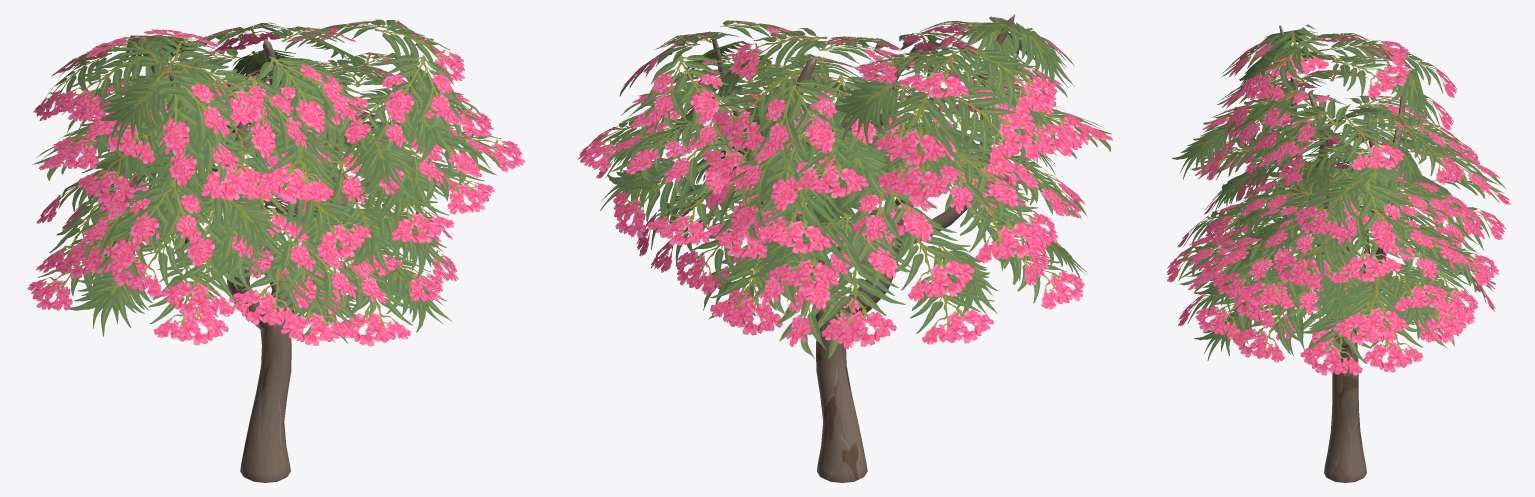
File: LaureldeJudeaESPOL.fbx
3 renders of one model, left to right at view 1: azimuth 30°, elevation 25°; view 2: azimuth 150°, elevation 25°; view 3: azimuth 270°, elevation 25°, orthographic. The views are drawn at different scales.
Visible parts, largest first — view 1: Tronco, Rama1_12, Rama1_34, Rama1_8, Rama1_32, Rama1_11, Rama2_7, Rama1_35, Rama2_8, Rama2_10, Rama3_13, Rama3_10 (+64 smaller); view 2: Tronco, Rama1_39, Rama1_24, Rama2_49, Rama2_22, Rama2_30, Rama2_21, Rama1_27, Rama1_20, Rama1_19, Rama2_52, Rama2_48 (+55 smaller); view 3: Tronco, Rama1_41, Rama2_38, Rama2_18, Rama2_47, Rama2_40, Rama2_33, Rama1_11, Rama1_32, Rama2_36, Rama2_63, Rama1_15 (+71 smaller).
Boxes of the visible parts, box(x1,y1,x2,y2) form: Tronco: box(143, 38, 416, 482); Rama1_12: box(369, 55, 463, 131); Rama1_34: box(149, 72, 237, 158); Rama1_8: box(115, 178, 211, 253); Rama1_32: box(255, 56, 349, 132); Rama1_11: box(226, 74, 312, 166); Rama2_7: box(229, 246, 311, 328); Rama1_35: box(77, 191, 161, 277); Rama2_8: box(285, 186, 371, 258); Rama2_10: box(248, 132, 333, 201); Rama3_13: box(93, 74, 170, 150); Rama3_10: box(339, 131, 421, 197); Tronco: box(712, 14, 1015, 482); Rama1_39: box(755, 79, 850, 165); Rama1_24: box(640, 54, 734, 131); Rama2_49: box(875, 84, 964, 165); Rama2_22: box(821, 263, 905, 346); Rama2_30: box(945, 85, 1035, 165); Rama2_21: box(890, 220, 975, 301); Rama1_27: box(729, 132, 830, 213); Rama1_20: box(935, 146, 1031, 220); Rama1_19: box(850, 179, 948, 252); Rama2_52: box(960, 177, 1042, 263); Rama2_48: box(712, 70, 798, 150); Tronco: box(1279, 25, 1405, 482); Rama1_41: box(1329, 182, 1407, 260); Rama2_38: box(1294, 177, 1366, 238); Rama2_18: box(1341, 269, 1416, 336); Rama2_47: box(1333, 115, 1404, 169); Rama2_40: box(1298, 313, 1370, 375); Rama2_33: box(1232, 298, 1305, 362); Rama1_11: box(1223, 79, 1300, 149); Rama1_32: box(1252, 106, 1330, 165); Rama2_36: box(1273, 232, 1346, 290); Rama2_63: box(1331, 55, 1409, 98); Rama1_15: box(1395, 227, 1470, 281).
Bounding box in the file's own units: 3940 × 3618 × 3008.
2 materials, 2 textured.
